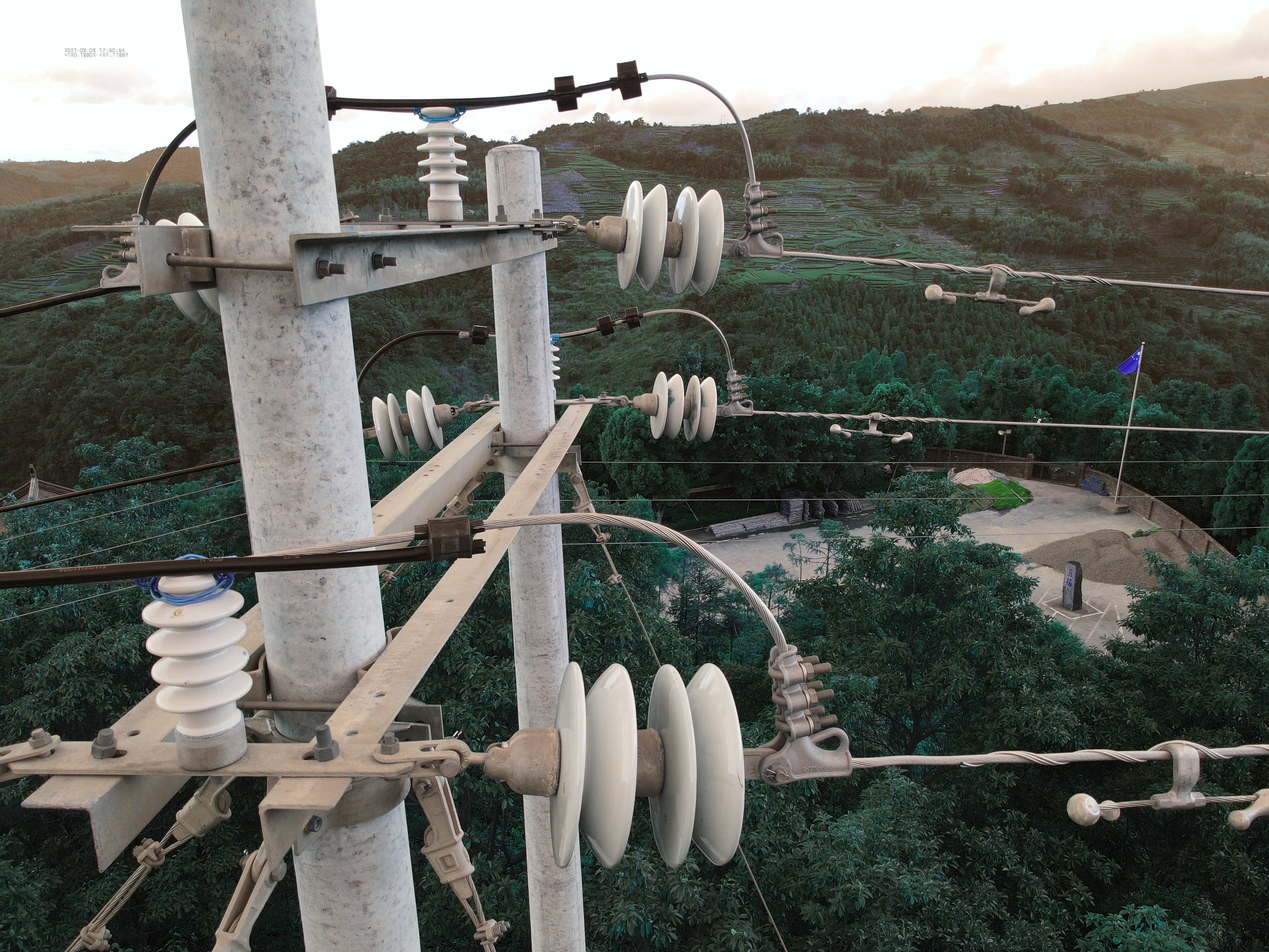severe_soiling_no_discharge_whole: (632, 370, 720, 444)
